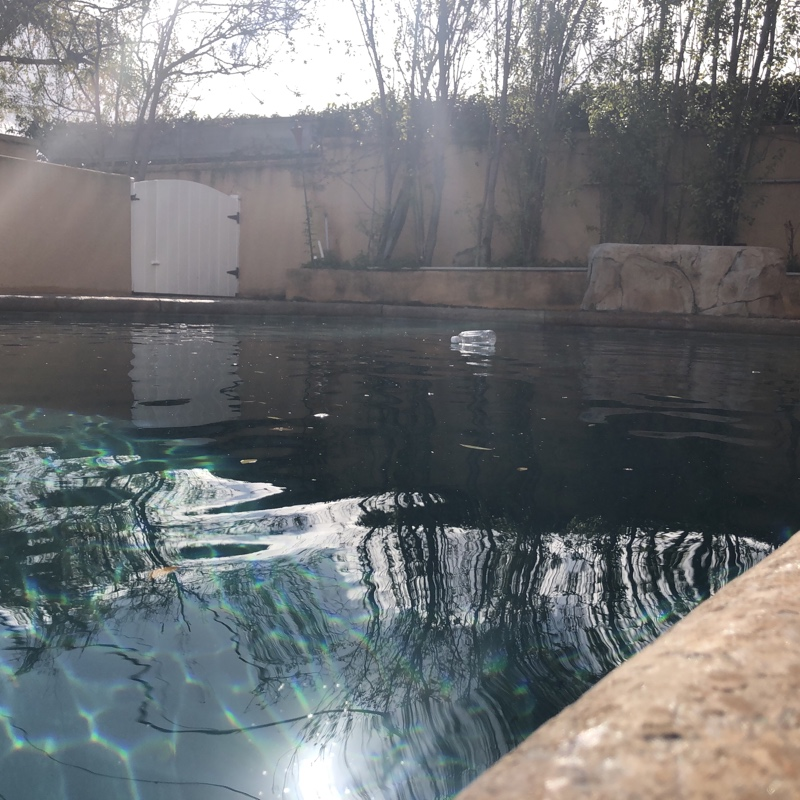Plastic Bottle: (449, 327, 494, 347)
